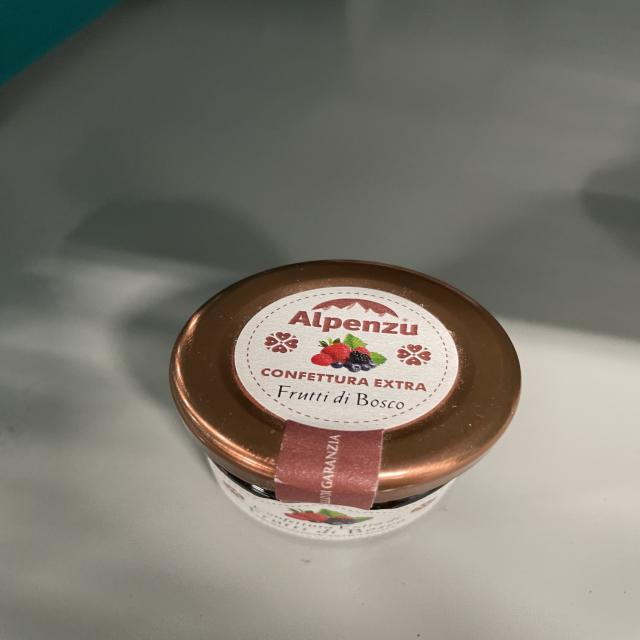object_name: (172, 264, 516, 544)
